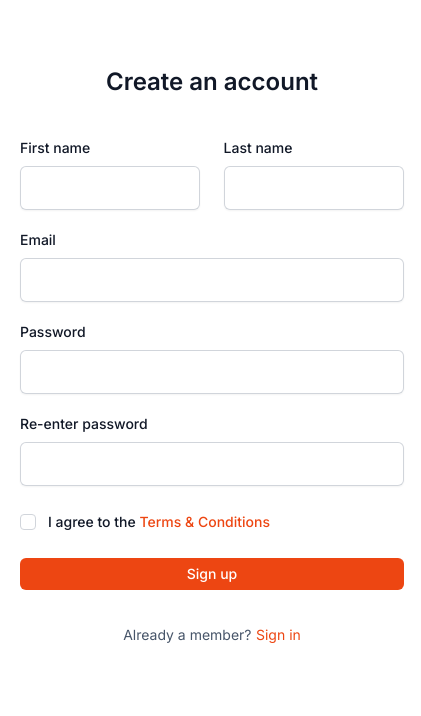
Scenario: signUp › Show error message when passwords do not match
The width and height of the screenshot is (421, 716).
Type "password123" into the password field with test id "password" at (212, 372), box [20,350,404,394]
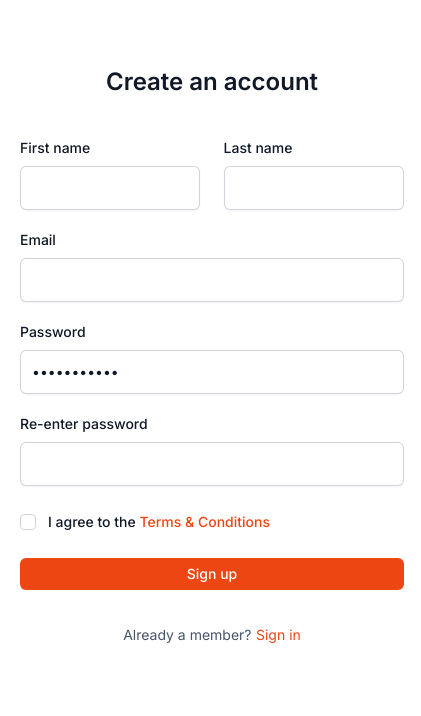
Type "password456" into the password field with test id "password-confirmation" at (212, 464), box [20,442,404,486]
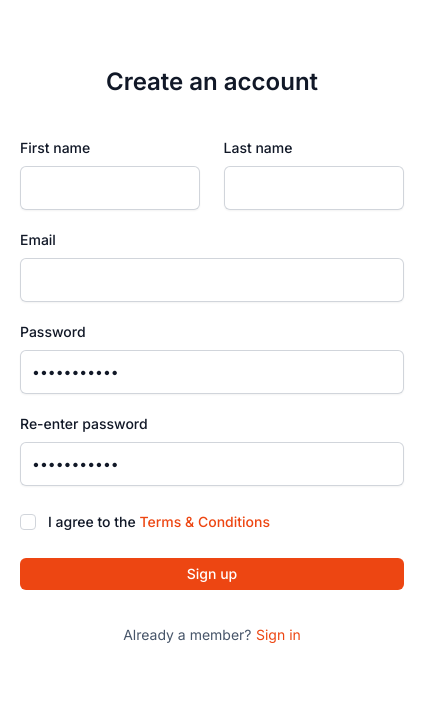
Click the button with test id "submit-button" at (212, 574), box [20,558,404,590]
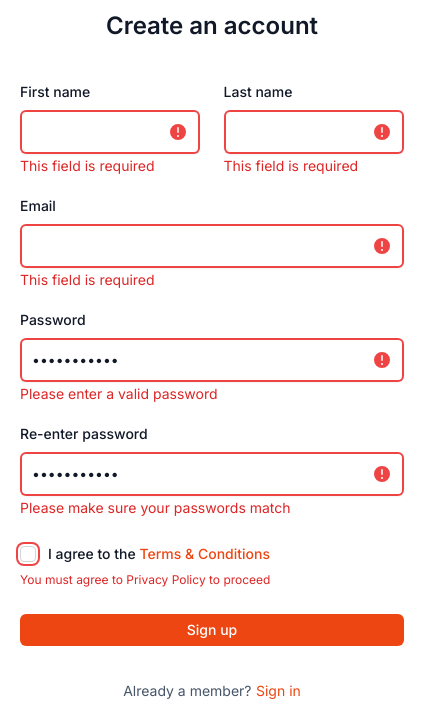
Expected: the text "Please make sure your passwords match" is shown, [20,499,291,516]
